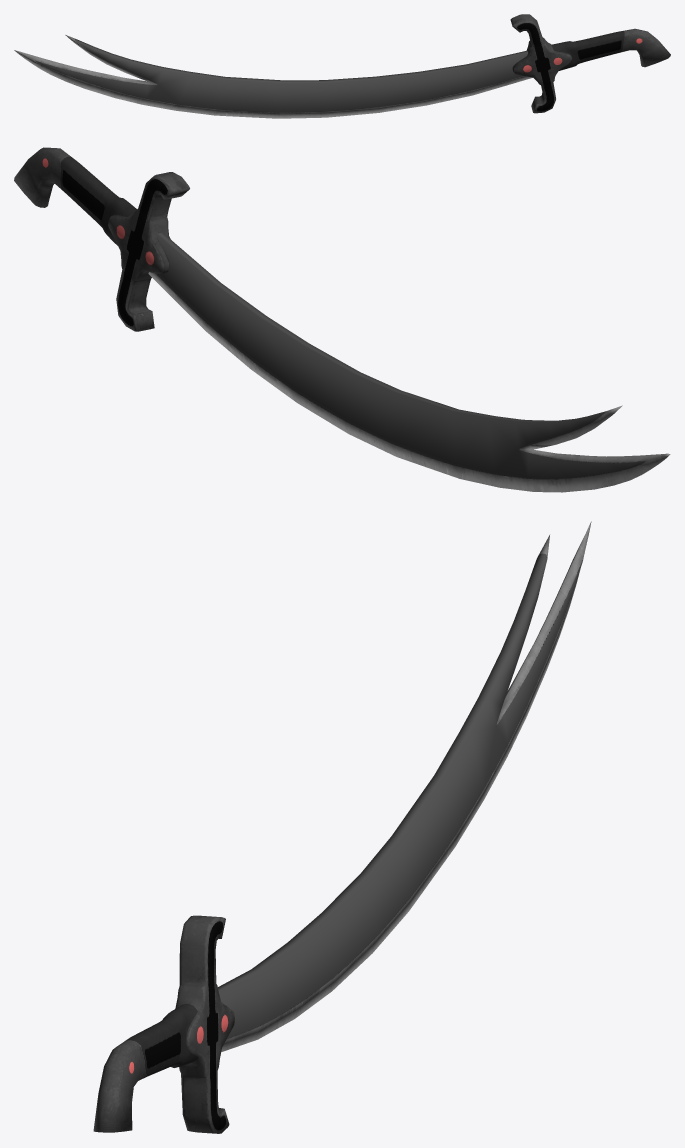
Rendered from Zulfiqar_Sword.glb.
The picture shows the model from 3 angles, top to bottom: view 1: azimuth 30°, elevation 25°; view 2: azimuth 150°, elevation 25°; view 3: azimuth 270°, elevation 25°; orthographic projection. The views are drawn at different scales.
Visible parts, largest first — view 1: Cube.002__0; view 2: Cube.002__0; view 3: Cube.002__0.
Boxes of the visible parts, x1,y1,x2,y2 form: Cube.002__0: (14, 14, 670, 118); Cube.002__0: (14, 147, 670, 492); Cube.002__0: (93, 521, 591, 1133).
Bounding box in the file's own units: 4.16 × 0.808 × 1.68.
1 material, 1 textured.
